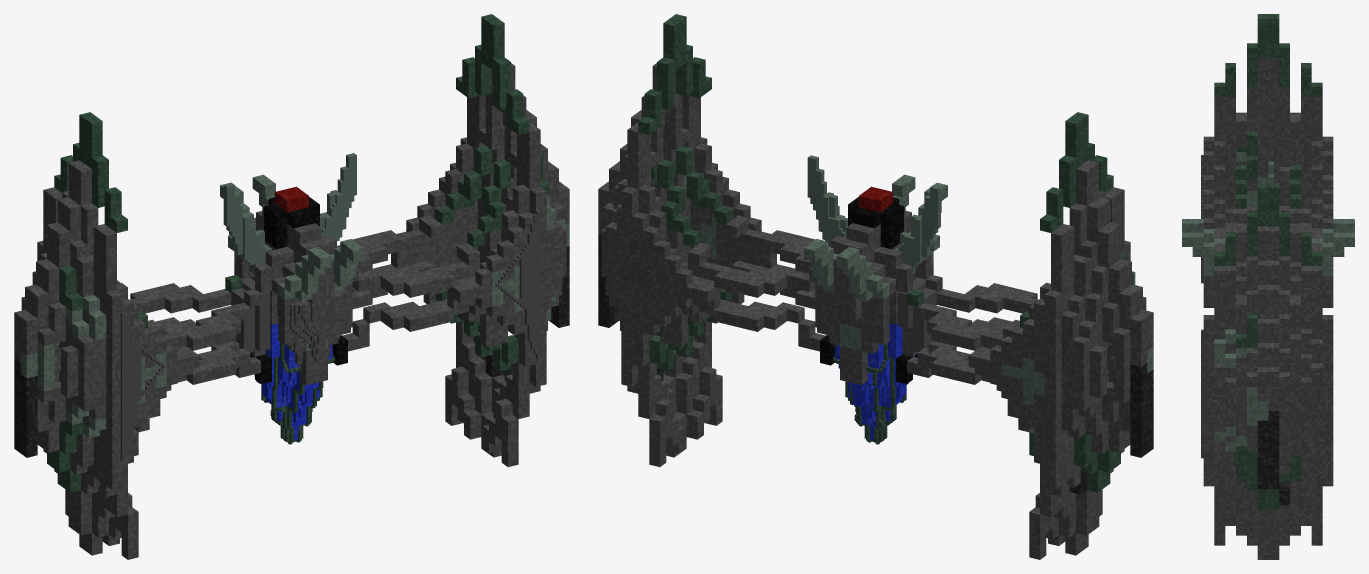
The model's file is Boss1.fbx.
3 views of the same model, side by side, from view 1: azimuth 30°, elevation 25°; view 2: azimuth 150°, elevation 25°; view 3: azimuth 270°, elevation 25° (orthographic). The views are drawn at different scales.
Visible parts, largest first — view 1: BOSS1; view 2: BOSS1; view 3: BOSS1.
Part boxes in pixels (x1,y1,x2,y2): BOSS1: [14, 14, 569, 559]; BOSS1: [598, 14, 1153, 559]; BOSS1: [1182, 14, 1354, 559].
Size of the model in its own units: 2000 by 1520 by 640.
